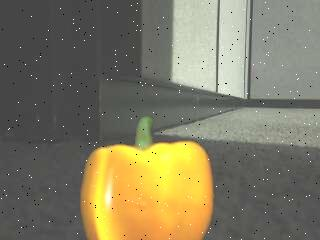Capsicum: (79, 116, 216, 240)
